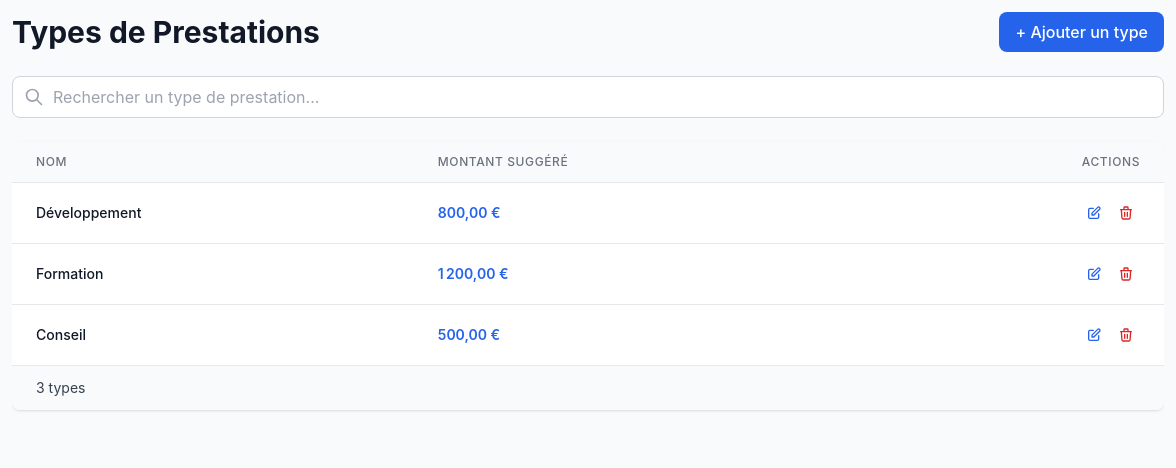
it: TypesPrestations page › shows "Aucun type trouvé" when search matches nothing
Type "zzzznonexistent" into the field with placeholder "Rechercher un type de prestation..." at [588, 97], box [12,76,1164,118]
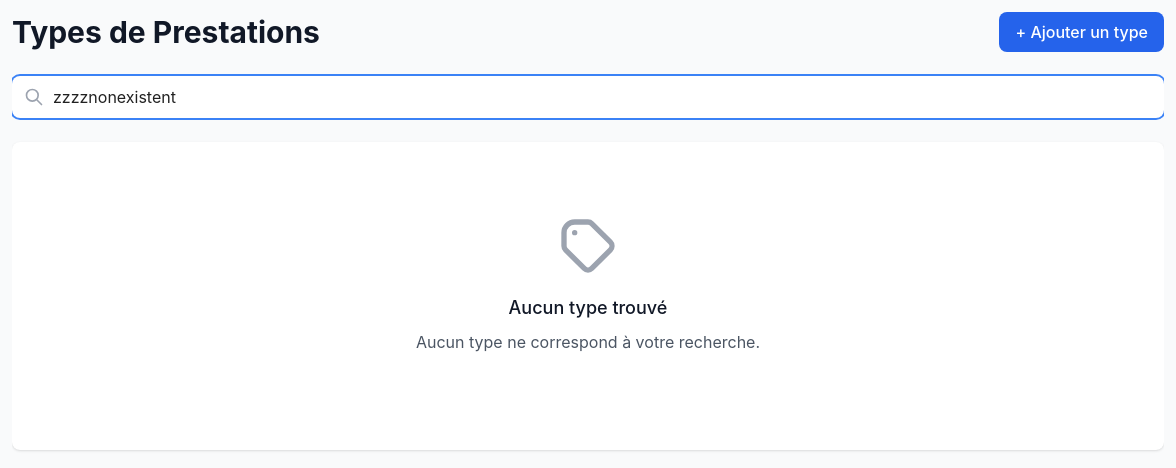
Result: the heading "Aucun type trouvé" is shown at [509,297,667,318]
